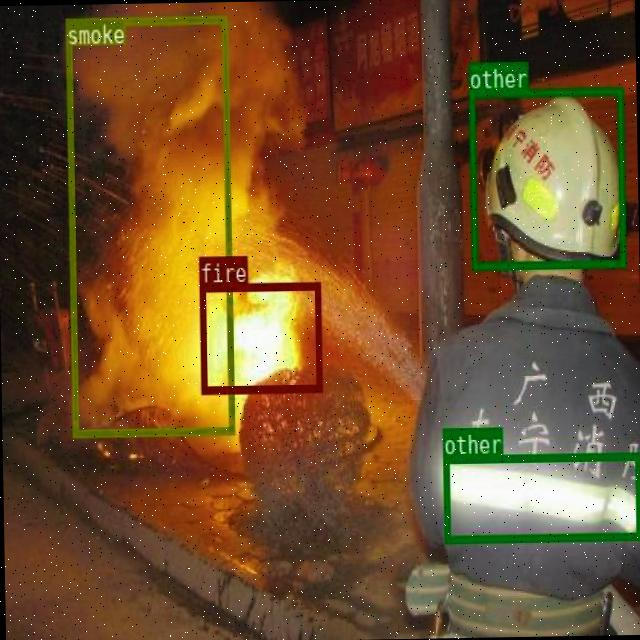fire: (198, 280, 321, 392)
smoke: (65, 15, 234, 435)
